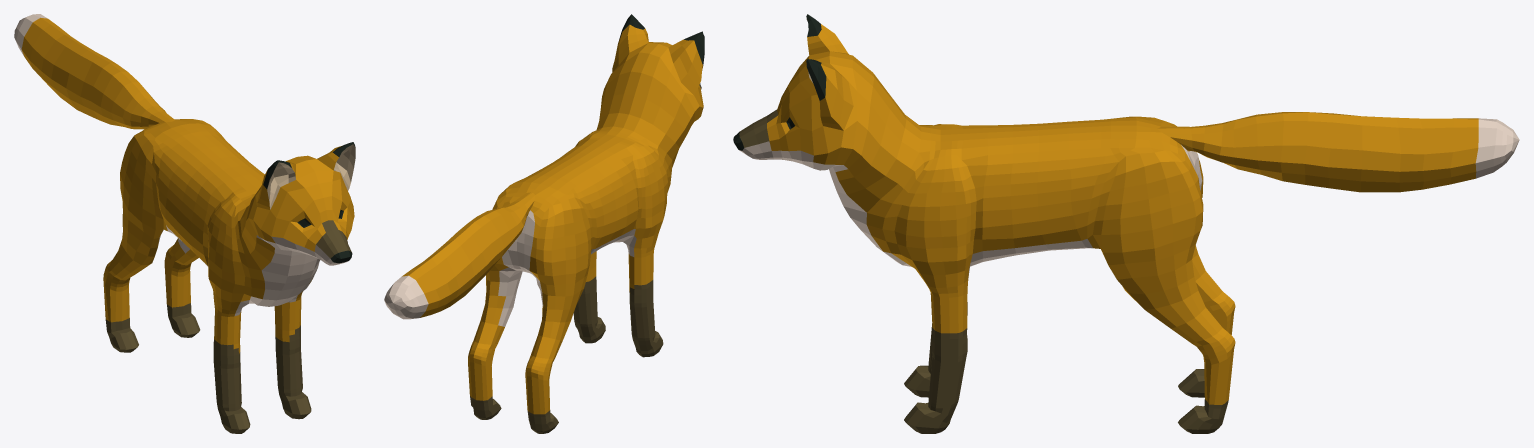
File: Fox 1.16 statisch.fbx
The picture shows the model from 3 angles, left to right: view 1: azimuth 30°, elevation 25°; view 2: azimuth 150°, elevation 25°; view 3: azimuth 270°, elevation 25°; orthographic projection. The views are drawn at different scales.
Parts seen in each view (by area): view 1: staart en poten; view 2: staart en poten; view 3: staart en poten.
Part boxes in pixels (x1,y1,x2,y2): staart en poten: (14, 14, 355, 433); staart en poten: (384, 14, 704, 433); staart en poten: (733, 14, 1519, 433).
Size of the model in its own units: 90.48 by 274 by 520.
